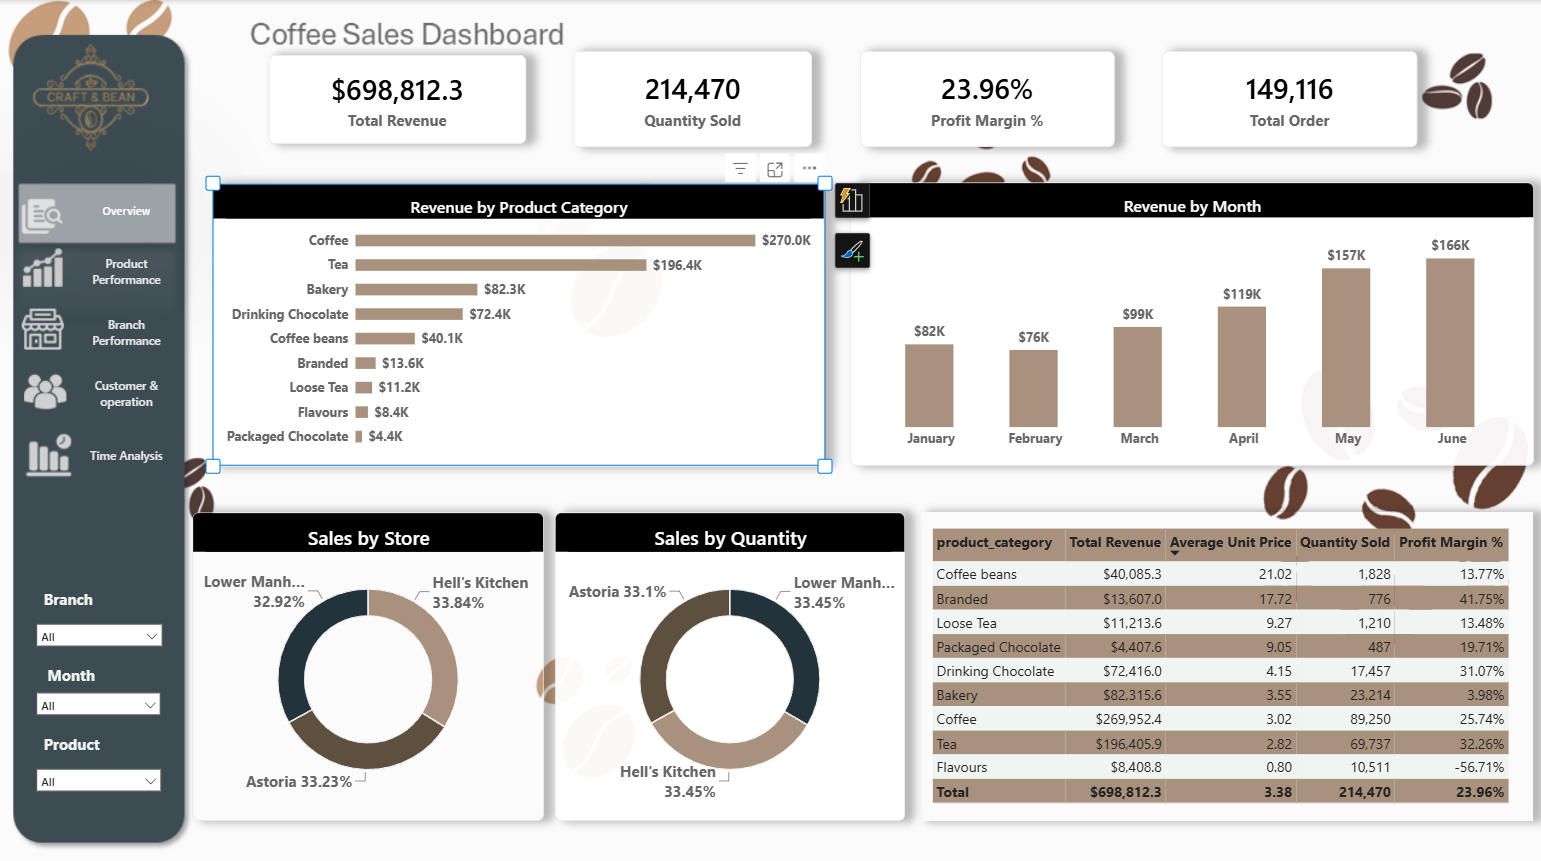

This screenshot's page, from the dashboard's own definition file:
{"tool":"powerbi","page":{"name":"Overview","canvas":[1920,1080],"ordinal":0},"visuals":[{"type":"card","fields":{"Values":["Measures_Table.Total Revenue"]},"box":[333.5,67.8,319.9,110.6],"z":0},{"type":"card","fields":{"Values":["Measures_Table.Total Items Sold"]},"box":[713.4,63.6,296,119.1],"z":1000},{"type":"card","fields":{"Values":["Measures_Table.Profit Margin %"]},"box":[1069.6,63.6,316.4,119.1],"z":2000},{"type":"card","fields":{"Values":["Measures_Table.Total Order"]},"box":[1446.1,63.6,316.4,119.1],"z":3000},{"type":"clusteredBarChart","title":"Revenue by Product Category","fields":{"Category":["coffee_sales.product_category"],"Y":["Measures_Table.Total Revenue"]},"box":[264.8,227.8,761.1,351.9],"z":4000},{"type":"clusteredColumnChart","title":"Revenue by Month","fields":{"Category":["coffee_sales.transaction_date.Variation.Date Hierarchy.Month"],"Y":["Measures_Table.Total Revenue"]},"box":[1057.1,226.5,850.3,352.4],"z":5000},{"type":"donutChart","title":"Sales by Store ","fields":{"Category":["coffee_sales.Branch_name"],"Y":["Sum(coffee_sales.Revenue)"]},"box":[238.9,637,437,383.3],"z":6000},{"type":"tableEx","fields":{"Values":["coffee_sales.product_category","Measures_Table.Total Revenue","Measures_Table.Average Unit Price","Measures_Table.Quantity Sold","Measures_Table.Profit Margin %"]},"box":[1146.3,637,761.1,383.3],"z":7000},{"type":"donutChart","title":"Sales by Quantity","fields":{"Category":["coffee_sales.Branch_name"],"Y":["Sum(coffee_sales.transaction_qty)"]},"box":[690.7,637,435.2,383.3],"z":8000},{"type":"textbox","box":[58.4,826.7,69.3,30.3],"z":9000},{"type":"slicer","fields":{"Values":["coffee_sales.Month Name"]},"box":[41.1,857,164.5,43.3],"z":10000},{"type":"slicer","fields":{"Values":["coffee_sales.product_detail"]},"box":[40.8,951,165,44.2],"z":11000},{"type":"textbox","box":[54.4,911.9,103.8,27.2],"z":12000},{"type":"slicer","fields":{"Values":["coffee_sales.Branch_name"]},"box":[41.1,770.4,166.6,41.1],"z":13000},{"type":"textbox","box":[54.4,731.6,78.3,39.1],"z":14000},{"type":"pageNavigator","box":[91.9,228,131,374.3],"z":15000}]}

Visuals, with their boxes on the page's 1920x1080 design canvas (x1, y1, x2, y2). These are canvas units, not pixel positions in the 1541x861 screenshot, which may show the page scaled, cropped or inside an application window:
card - Measures_Table.Total Revenue: bbox(334, 68, 653, 178)
card - Measures_Table.Total Items Sold: bbox(713, 64, 1009, 183)
card - Measures_Table.Profit Margin %: bbox(1070, 64, 1386, 183)
card - Measures_Table.Total Order: bbox(1446, 64, 1762, 183)
"Revenue by Product Category" clusteredBarChart: bbox(265, 228, 1026, 580)
"Revenue by Month" clusteredColumnChart: bbox(1057, 226, 1907, 579)
"Sales by Store " donutChart: bbox(239, 637, 676, 1020)
tableEx - coffee_sales.product_category x Measures_Table.Total Revenue: bbox(1146, 637, 1907, 1020)
"Sales by Quantity" donutChart: bbox(691, 637, 1126, 1020)
textbox: bbox(58, 827, 128, 857)
slicer - coffee_sales.Month Name: bbox(41, 857, 206, 900)
slicer - coffee_sales.product_detail: bbox(41, 951, 206, 995)
textbox: bbox(54, 912, 158, 939)
slicer - coffee_sales.Branch_name: bbox(41, 770, 208, 812)
textbox: bbox(54, 732, 133, 771)
pageNavigator: bbox(92, 228, 223, 602)
